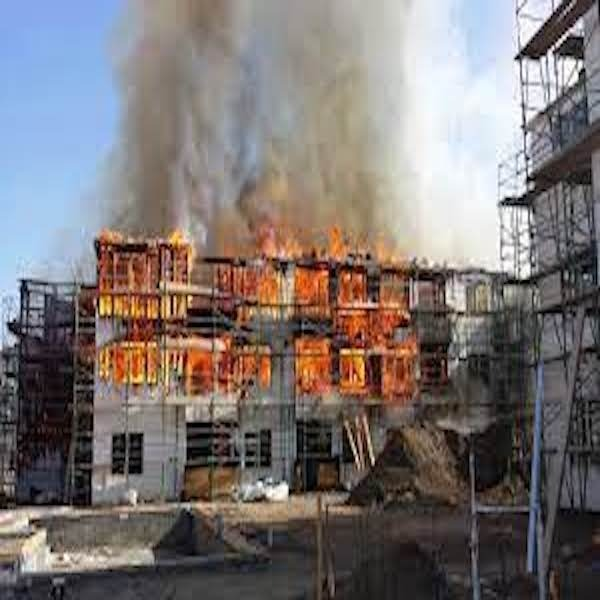fire: (254, 8, 402, 311), (120, 31, 189, 318), (99, 340, 213, 394), (296, 340, 331, 383), (340, 349, 366, 390)
